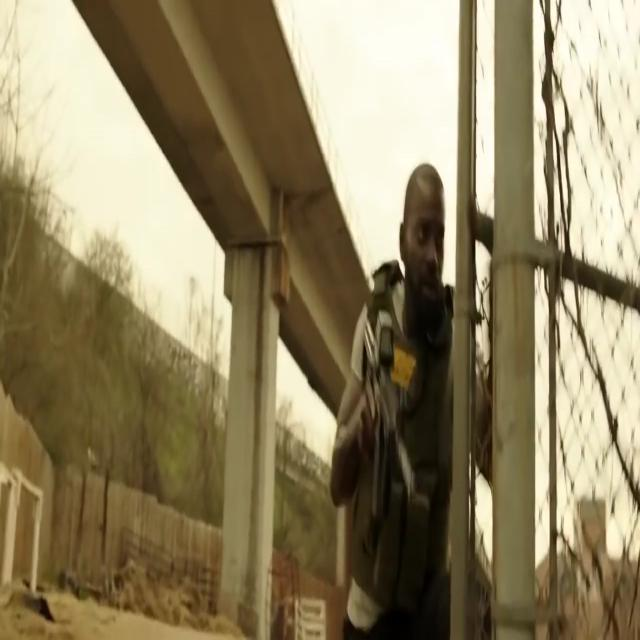Weapon: (358, 290, 434, 537)
